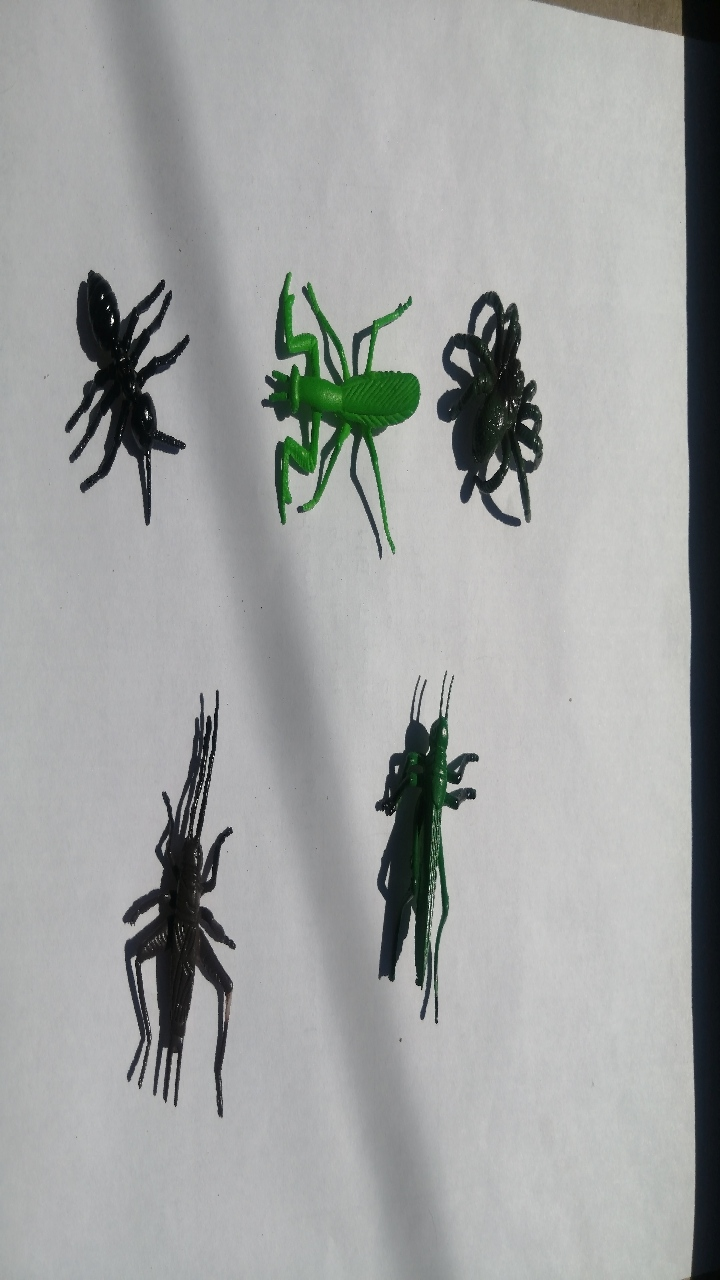intruso: (61, 655, 251, 1142), (343, 654, 512, 1019), (246, 249, 428, 586), (46, 234, 215, 526), (406, 257, 571, 520)
